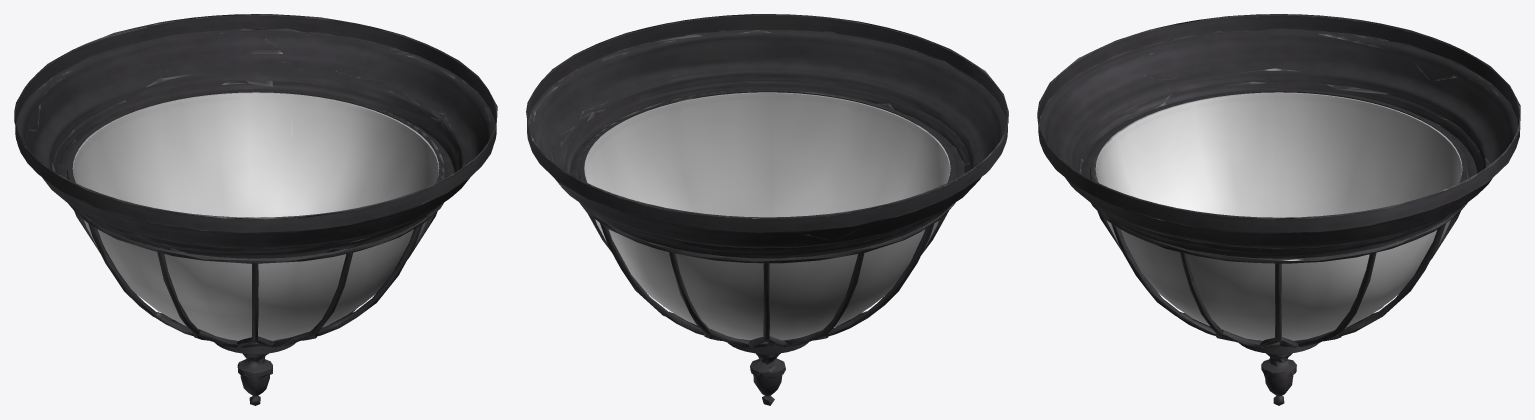
Rendered from raw_model.obj.
3 views of the same model, side by side, from view 1: azimuth 30°, elevation 25°; view 2: azimuth 150°, elevation 25°; view 3: azimuth 270°, elevation 25° (orthographic).
Visible parts, largest first — view 1: solid_001, glass_001, solid_003; view 2: solid_001, glass_001, solid_003; view 3: solid_001, glass_001, solid_003.
Part boxes in pixels (x1,y1,x2,y2): solid_001: (14,14,497,258); glass_001: (72,92,439,340); solid_003: (68,203,443,405); solid_001: (526,14,1008,258); glass_001: (584,92,950,340); solid_003: (579,202,955,405); solid_001: (1037,14,1520,258); glass_001: (1095,92,1462,340); solid_003: (1091,203,1467,405).
Bounding box in the file's own units: 0.6159 × 0.4072 × 0.6163.
Materials: 1 (1 with a texture image).
